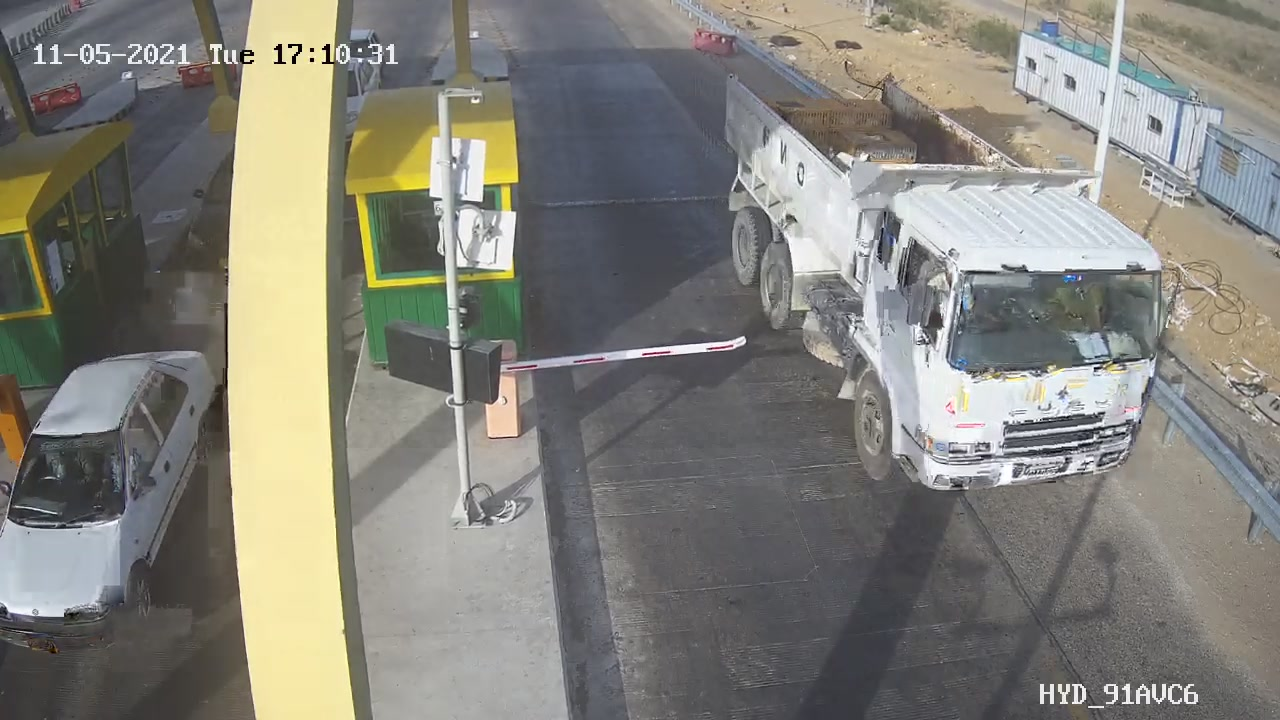F5: (695, 46, 1211, 514)
